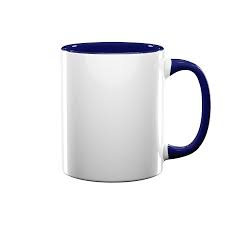mug: (53, 31, 214, 194)
